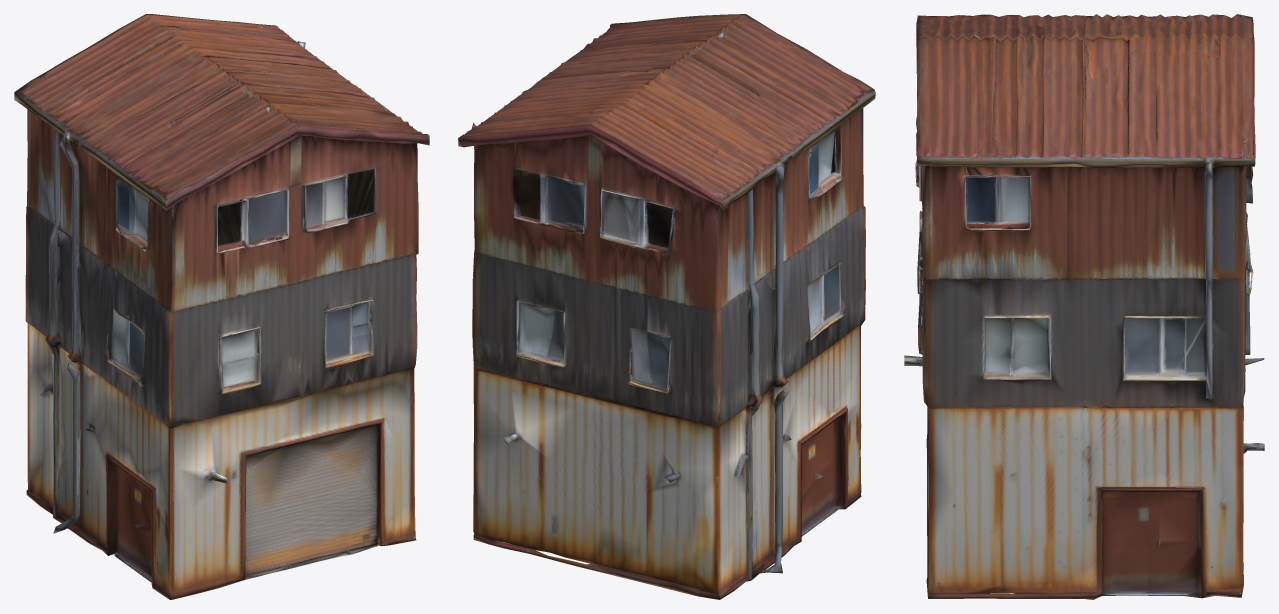
Rendered from metal_building_03.glb.
3 renders of one model, left to right at view 1: azimuth 30°, elevation 25°; view 2: azimuth 150°, elevation 25°; view 3: azimuth 270°, elevation 25°, orthographic. The views are drawn at different scales.
Bounding box in the file's own units: 1.31 × 2 × 1.31.
1 material, 1 textured.
